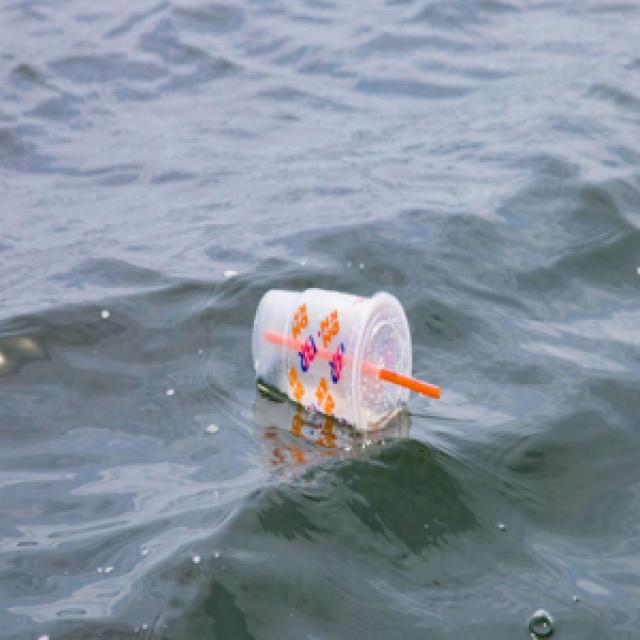plastic cup: (218, 271, 412, 435)
